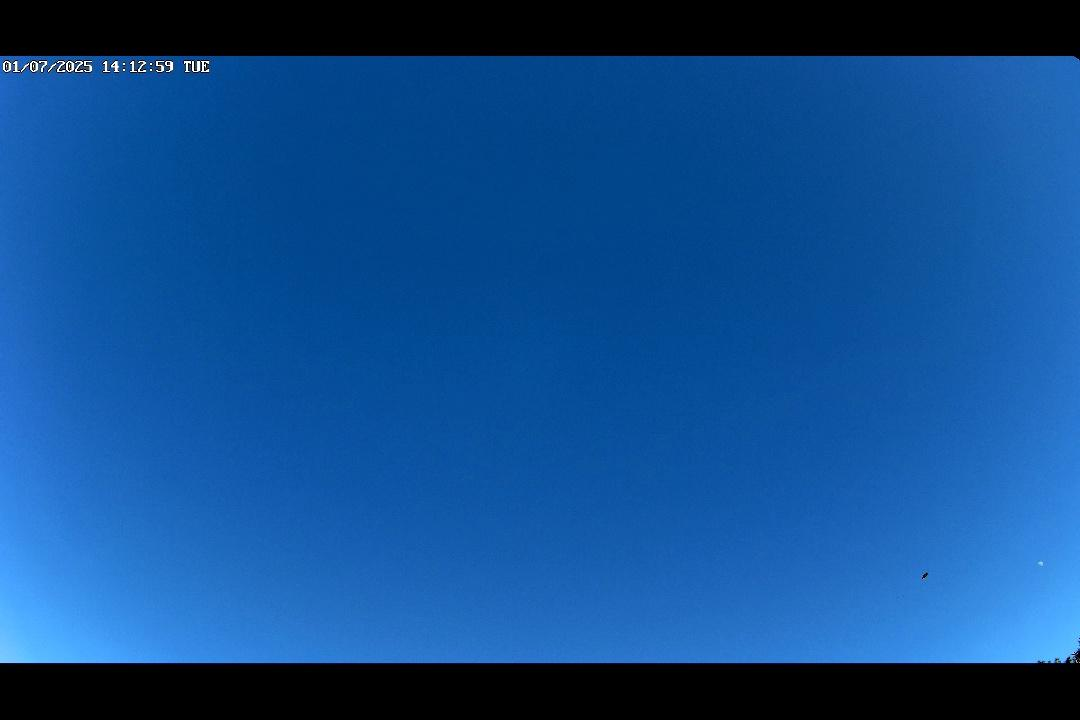WildLife: (908, 561, 940, 584)
